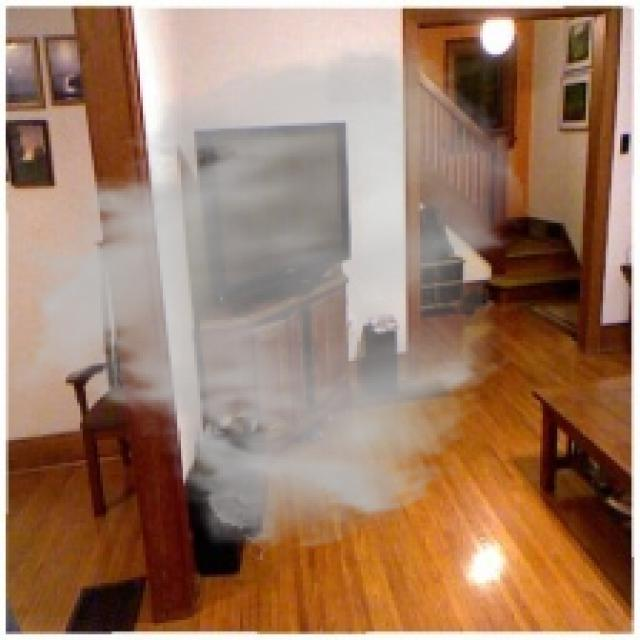smoke: (3, 37, 528, 554)
